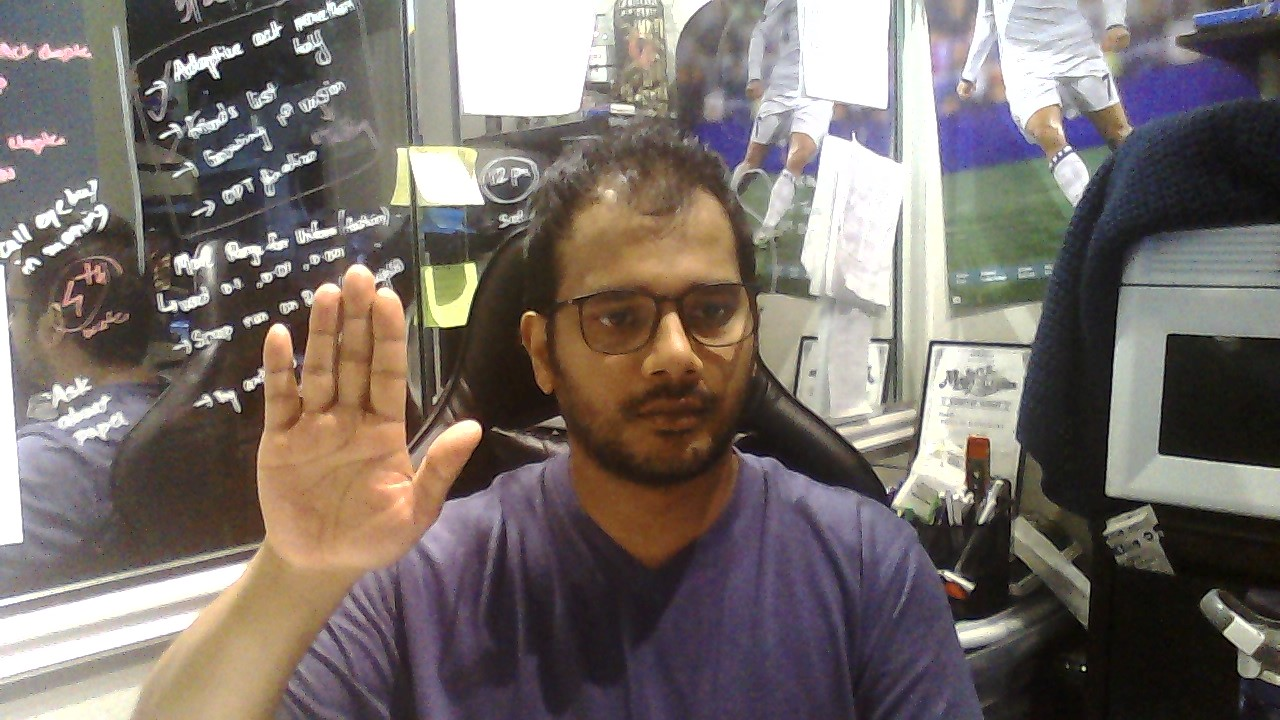Hello: (257, 264, 483, 569)
